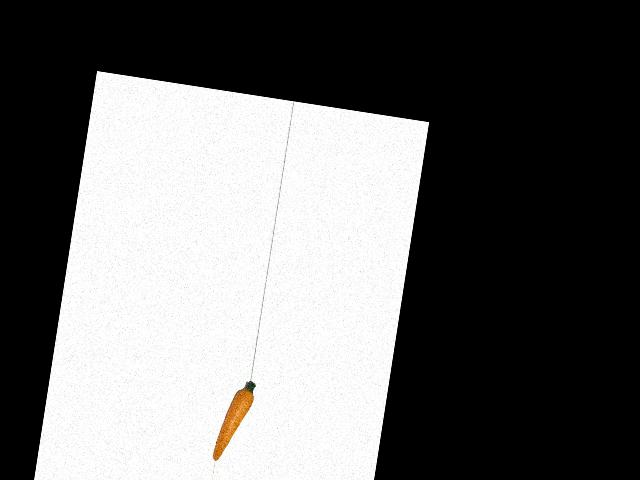carrot: (212, 376, 257, 464)
